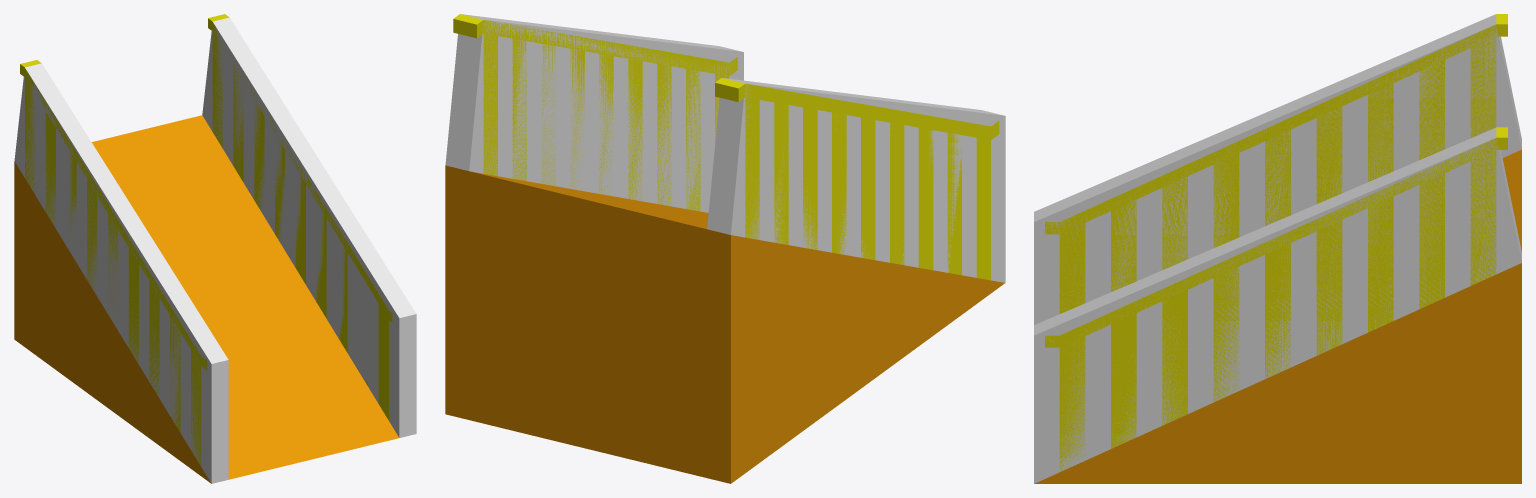
The model's file is SM_Ramp.fbx.
3 renders of one model, left to right at view 1: azimuth 30°, elevation 25°; view 2: azimuth 150°, elevation 25°; view 3: azimuth 270°, elevation 25°, orthographic. The views are drawn at different scales.
Parts seen in each view (by area): view 1: Barrer, Col_Left, Col_Right, Ramp; view 2: Barrer, Ramp, Col_Right, Col_Left; view 3: Barrer, Col_Right, Col_Left, Ramp.
Boxes of the visible parts, left/top/right/bottom form: Barrer: left=14, top=14, right=398, bottom=483; Col_Left: left=14, top=63, right=228, bottom=483; Col_Right: left=202, top=17, right=416, bottom=437; Ramp: left=14, top=115, right=394, bottom=482; Barrer: left=445, top=14, right=1004, bottom=483; Ramp: left=445, top=166, right=1000, bottom=483; Col_Right: left=445, top=14, right=743, bottom=212; Col_Left: left=707, top=78, right=1005, bottom=282; Barrer: left=1035, top=14, right=1521, bottom=483; Col_Right: left=1034, top=127, right=1521, bottom=483; Col_Left: left=1034, top=14, right=1521, bottom=324; Ramp: left=1035, top=150, right=1521, bottom=483.
Size of the model in its own units: 240 by 313 by 400.
